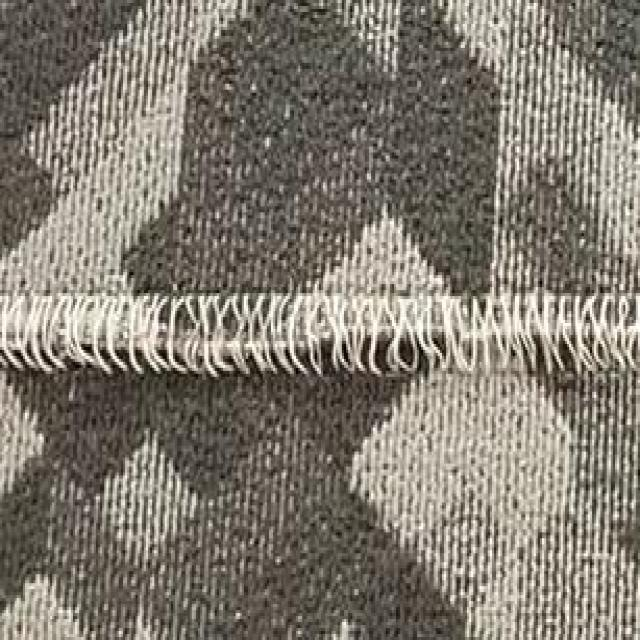gray stitch: (2, 284, 640, 383)
